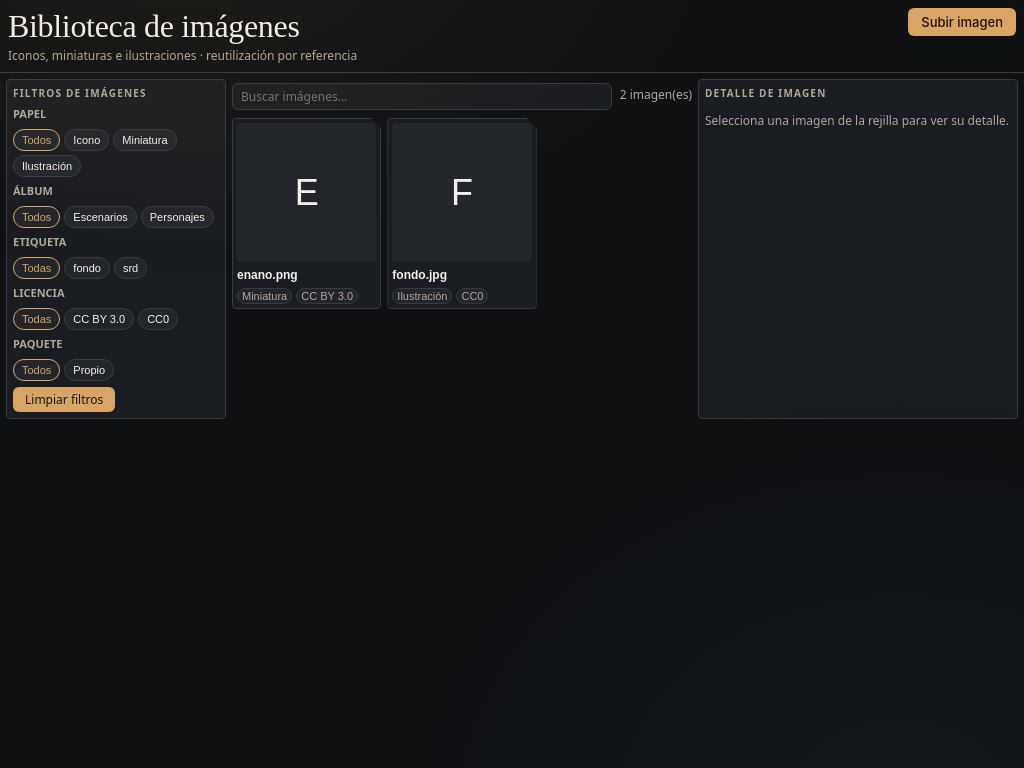
Test: Biblioteca de imágenes real (PMB-4.7) › carga imágenes, filtra por papel y muestra procedencia/licencia
The image size is (1024, 768).
Expected: the text "2 imagen(es)" is shown, 620,86 -> 692,103
Click the button "Miniatura" at [145, 140], box 113,129 -> 177,151
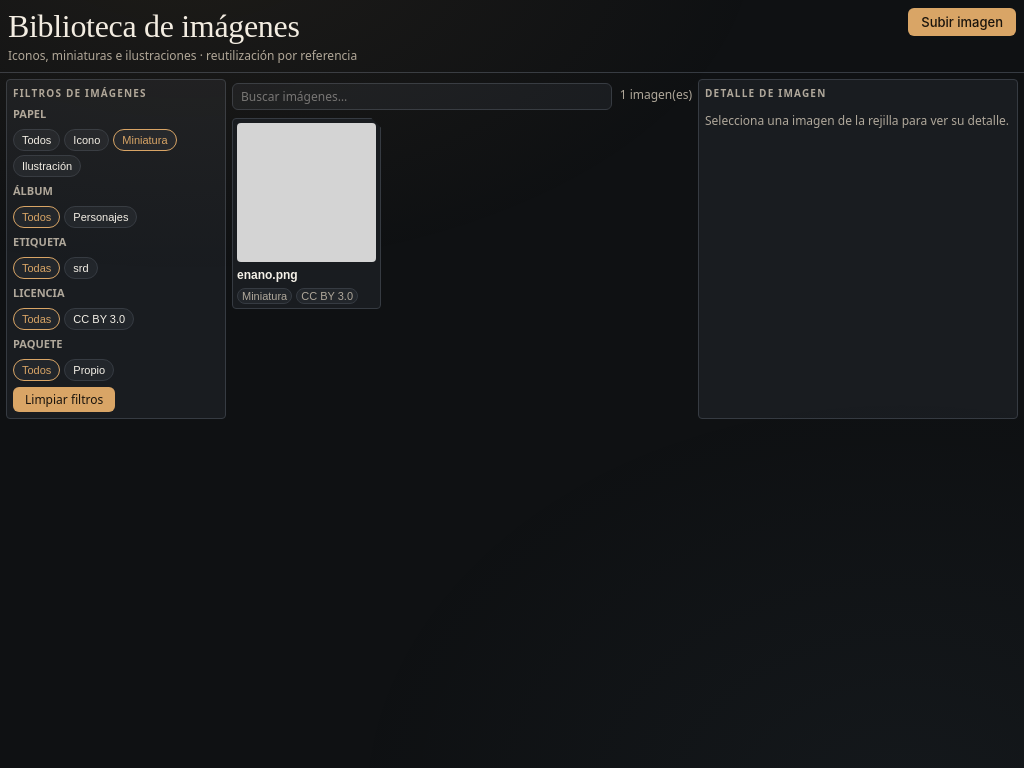
Expected: the text "1 imagen(es)" is shown, 620,86 -> 692,103
Click the button "enano.png Miniatura CC BY 3.0" at [307, 214], box 232,118 -> 381,309
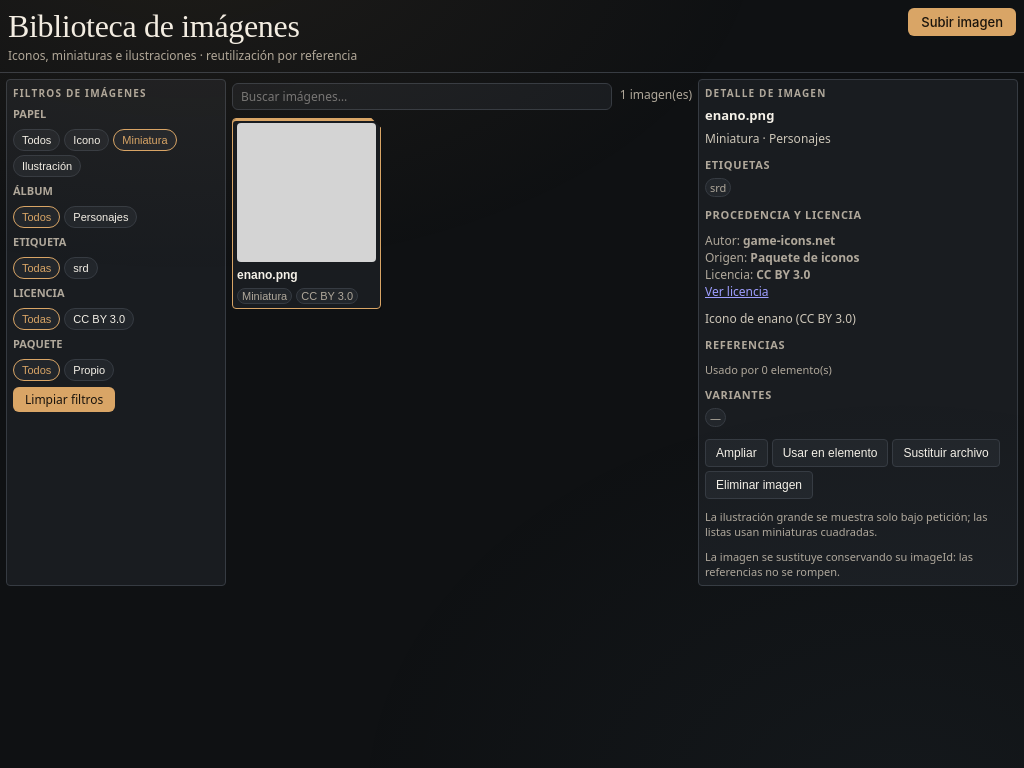
Expected: the text "game-icons.net" is shown, 743,232 -> 835,249
Expected: the text "CC BY 3.0" below "Origen" is shown, 756,266 -> 810,283
